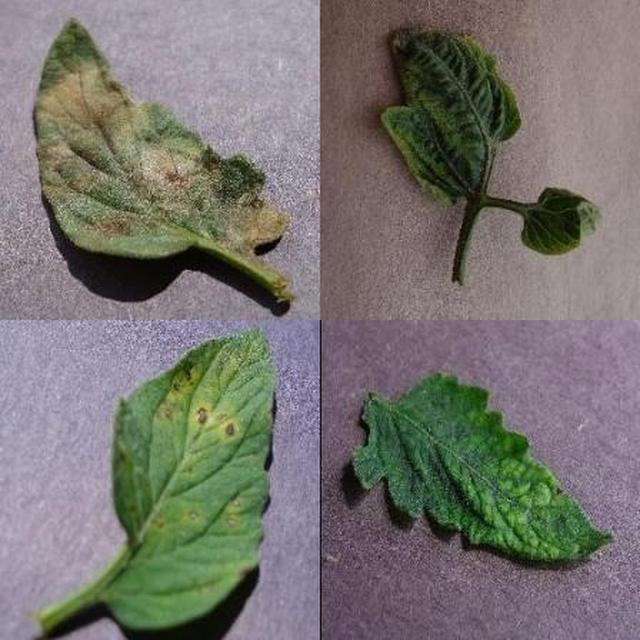Late Blight Leaf: (124, 104, 640, 640)
